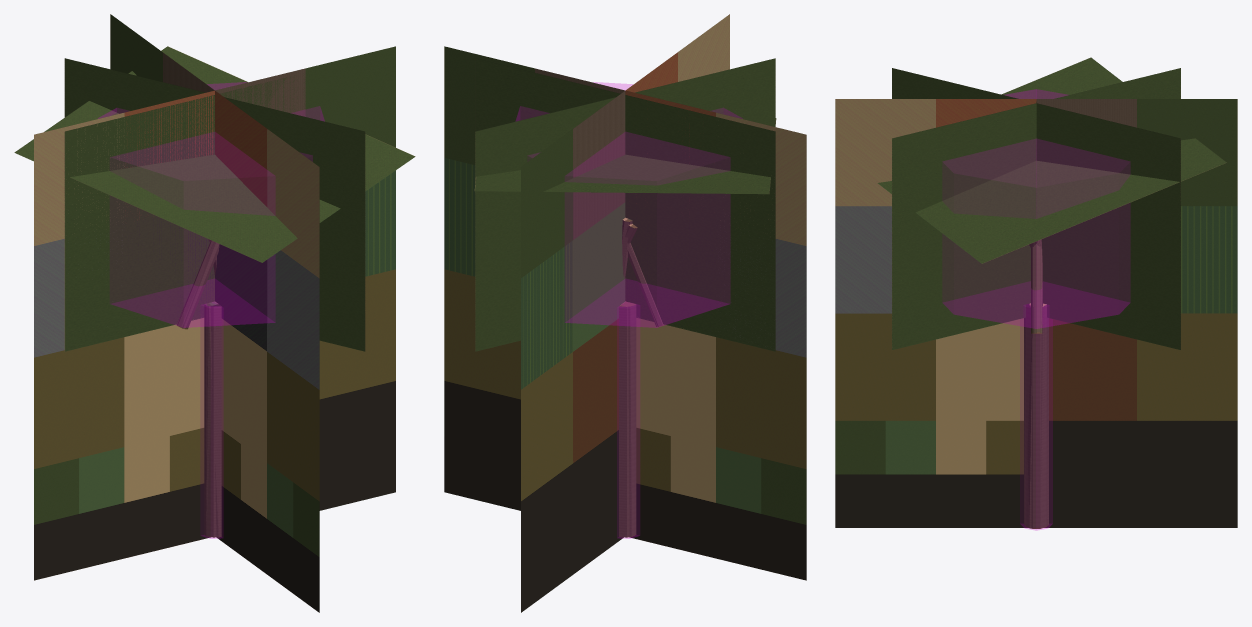
The model's file is mesquite_large.dae.
3 renders of one model, left to right at view 1: azimuth 30°, elevation 25°; view 2: azimuth 150°, elevation 25°; view 3: azimuth 270°, elevation 25°, orthographic. The views are drawn at different scales.
Visible parts, largest first — view 1: mesquite_large_a50, mesquite_large_a800, Colmesh_canopy-1, mesquite_large_a200, Colmesh_trunk-1; view 2: mesquite_large_a50, mesquite_large_a800, mesquite_large_a200, Colmesh_canopy-1, Colmesh_trunk-1; view 3: mesquite_large_a50, mesquite_large_a800, Colmesh_canopy-1, mesquite_large_a200, Colmesh_trunk-1.
Boxes of the visible parts, x1,y1,x2,y2 form: mesquite_large_a50: (34, 14, 395, 612); mesquite_large_a800: (14, 46, 415, 537); Colmesh_canopy-1: (98, 82, 324, 327); mesquite_large_a200: (16, 47, 412, 537); Colmesh_trunk-1: (201, 326, 222, 538); mesquite_large_a50: (444, 14, 806, 612); mesquite_large_a800: (474, 58, 776, 537); mesquite_large_a200: (475, 58, 775, 537); Colmesh_canopy-1: (516, 82, 742, 327); Colmesh_trunk-1: (617, 326, 639, 538); mesquite_large_a50: (835, 99, 1237, 527); mesquite_large_a800: (877, 57, 1226, 528); Colmesh_canopy-1: (943, 89, 1129, 328); mesquite_large_a200: (881, 58, 1226, 528); Colmesh_trunk-1: (1020, 327, 1052, 530).
Size of the model in its own units: 5.42 by 5.42 by 6.38.
Materials: 2 (1 with a texture image).
